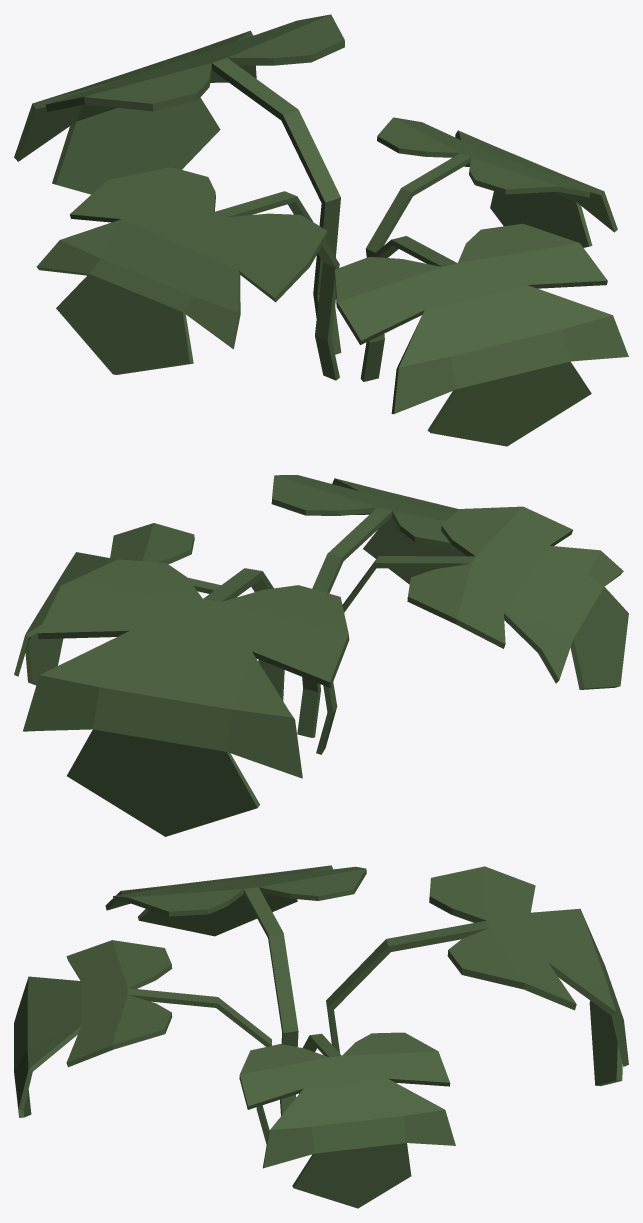
The picture shows the model from 3 angles, top to bottom: view 1: azimuth 30°, elevation 25°; view 2: azimuth 150°, elevation 25°; view 3: azimuth 270°, elevation 25°; orthographic projection. The views are drawn at different scales.
Visible parts, largest first — view 1: Plant_4; view 2: Plant_4; view 3: Plant_4.
Part boxes in pixels (x1,y1,x2,y2): Plant_4: (14,14,628,446); Plant_4: (14,475,628,836); Plant_4: (14,865,628,1208).
Size of the model in its own units: 1.91 by 0.8109 by 2.12.
